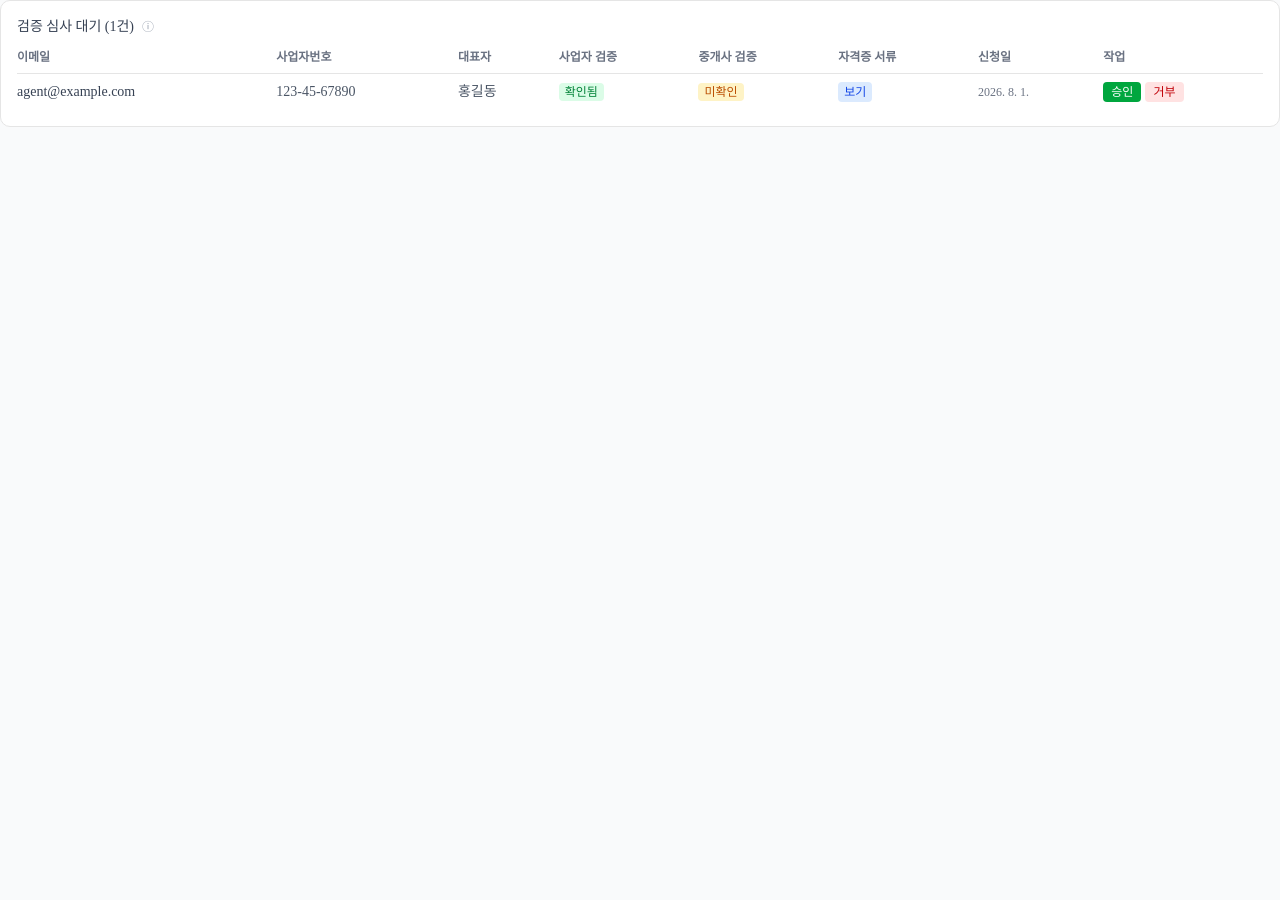
Test: VerificationReview 컴포넌트 › 거부 사유 모달이 dialog role·aria-modal을 가지고 ESC로 닫힌다
Expected: the text "agent@example.com" is shown, [17,74,276,110]
Click the button "거부": click(1164, 92) [1145,82,1184,102]
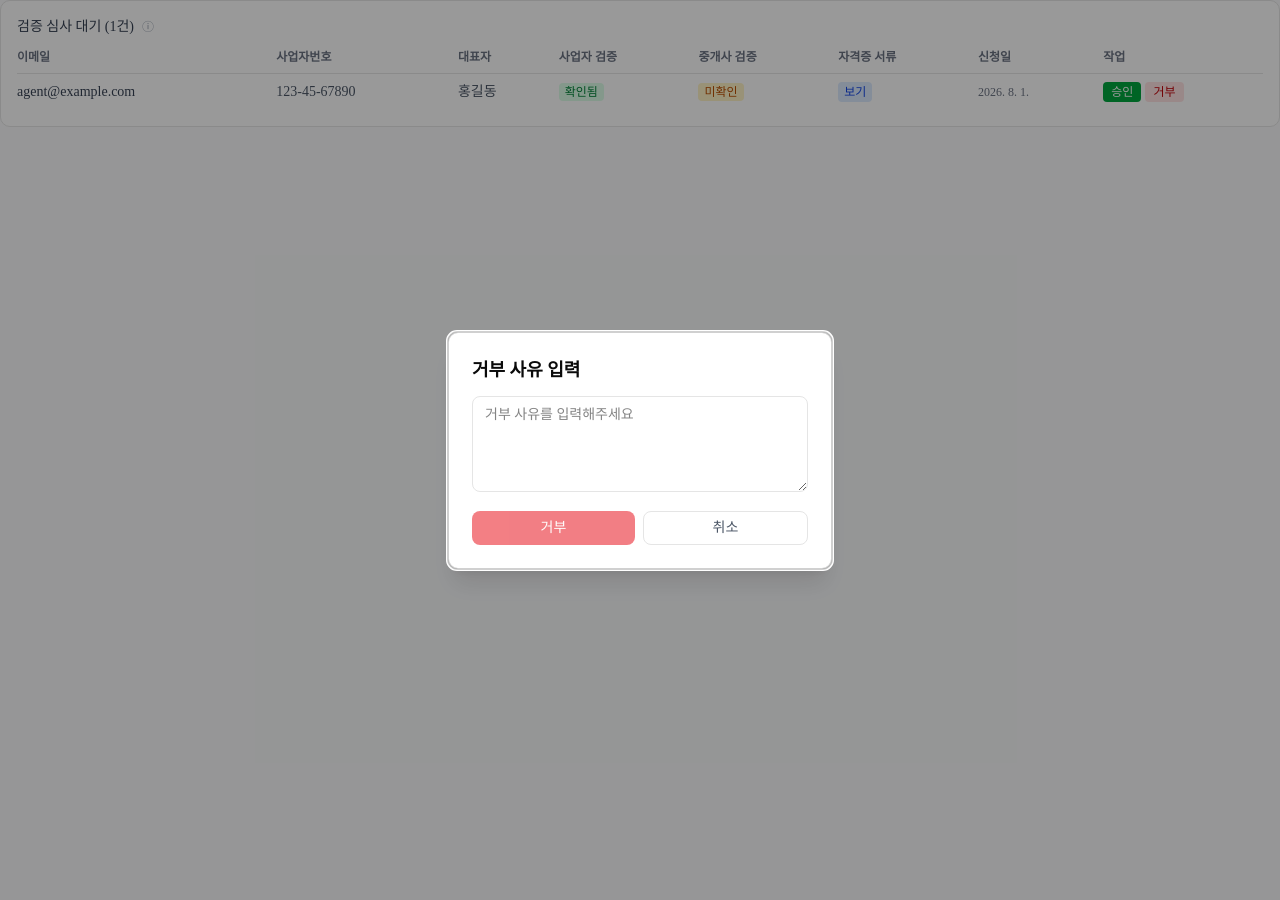
Press Escape
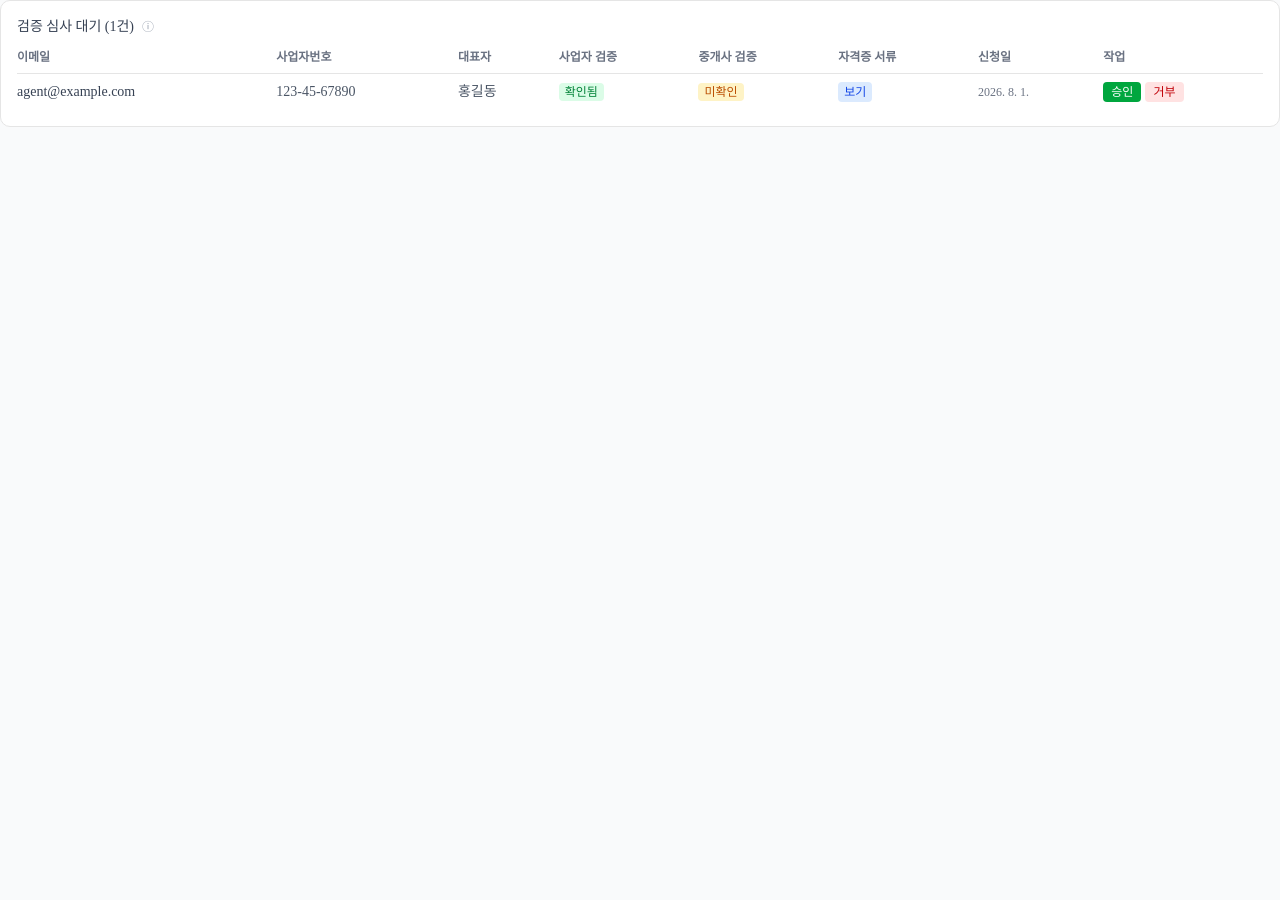
Expected: the heading "거부 사유 입력" is gone
